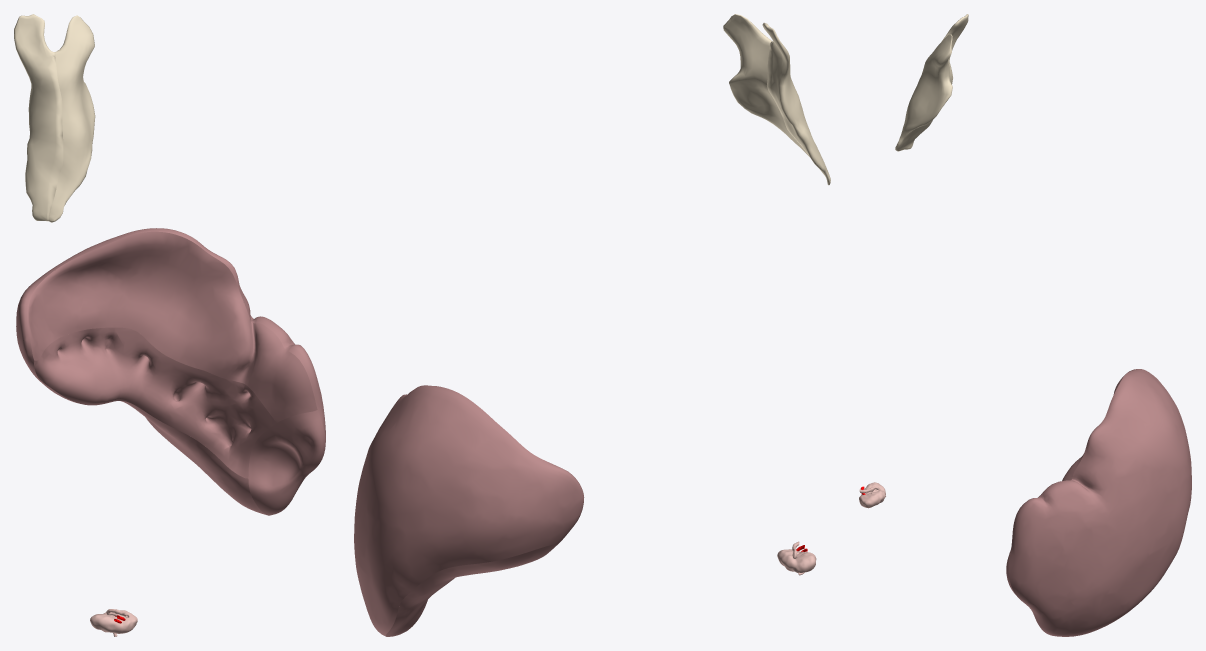
Rendered from lymphatic.glb.
3 views of the same model, side by side, from view 1: azimuth 30°, elevation 25°; view 2: azimuth 150°, elevation 25°; view 3: azimuth 270°, elevation 25° (orthographic). The views are drawn at different scales.
Parts seen in each view (by area): view 1: gastric surface of spleen, hilum of spleen, left thymus lobe, colic surface of spleen, right thymus lobe, diaphragmatic surface of spleen, renal surface of spleen, capsule of lymph node; view 2: diaphragmatic surface of spleen, right thymus lobe, left thymus lobe, renal surface of spleen, capsule of lymph node; view 3: diaphragmatic surface of spleen, right thymus lobe, left thymus lobe.
Boxes of the visible parts, x1=… form: gastric surface of spleen: x1=28, y1=231, x2=317, y2=422; hilum of spleen: x1=34, y1=327, x2=276, y2=478; left thymus lobe: x1=14, y1=14, x2=63, y2=221; colic surface of spleen: x1=248, y1=410, x2=325, y2=515; right thymus lobe: x1=48, y1=15, x2=95, y2=222; diaphragmatic surface of spleen: x1=16, y1=228, x2=325, y2=500; renal surface of spleen: x1=37, y1=378, x2=266, y2=514; capsule of lymph node: x1=90, y1=610, x2=137, y2=633; diaphragmatic surface of spleen: x1=354, y1=385, x2=584, y2=636; right thymus lobe: x1=723, y1=14, x2=809, y2=156; left thymus lobe: x1=762, y1=22, x2=830, y2=185; renal surface of spleen: x1=386, y1=544, x2=557, y2=636; capsule of lymph node: x1=777, y1=549, x2=816, y2=572; diaphragmatic surface of spleen: x1=1008, y1=369, x2=1191, y2=636; right thymus lobe: x1=895, y1=34, x2=952, y2=151; left thymus lobe: x1=902, y1=14, x2=968, y2=150.
Size of the model in its own units: 0.1527 by 0.2483 by 0.1488.
